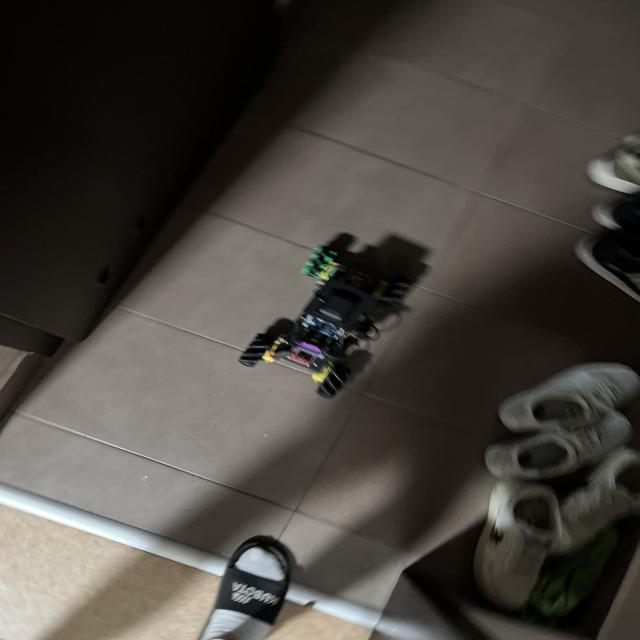robot: (240, 245, 414, 398)
